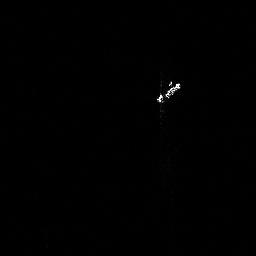ship: (153, 78, 184, 105)
